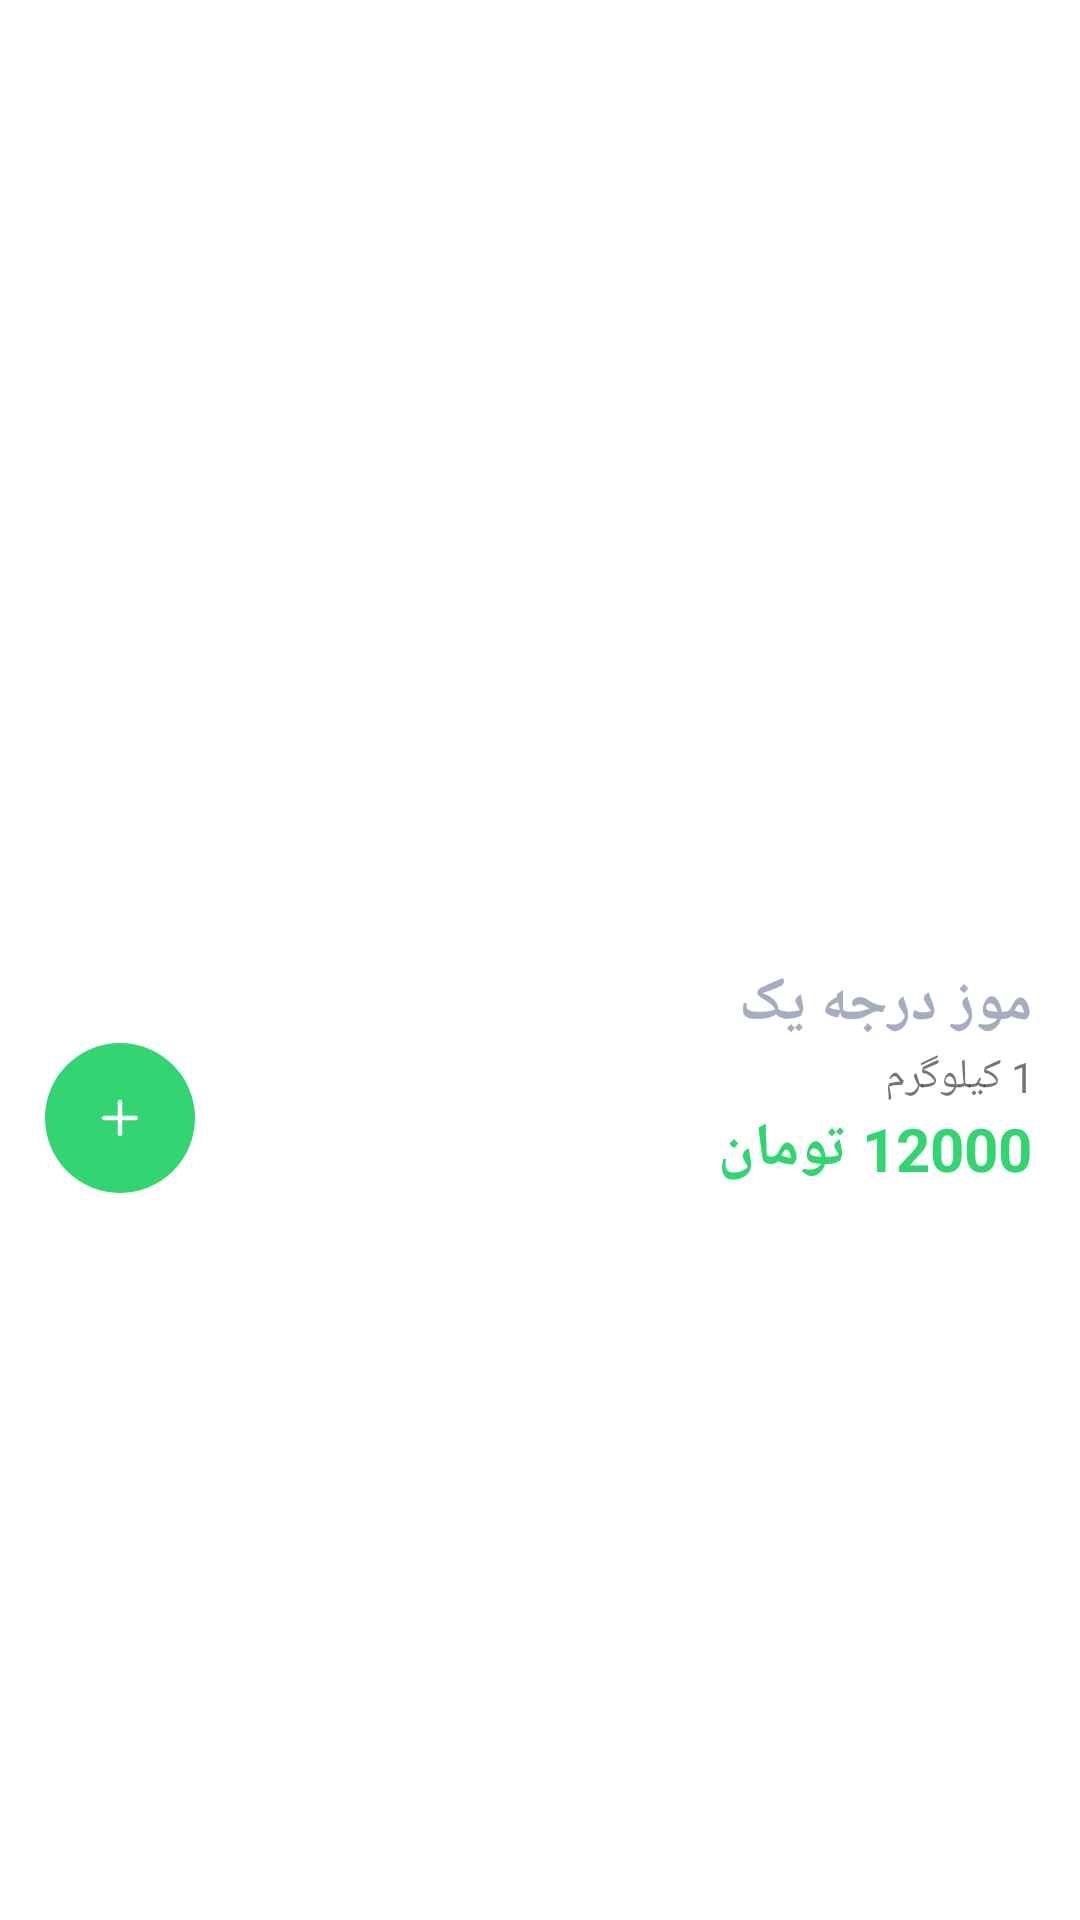

Named icons in this screenshot (1080x1920) and their centers, (x=x, y=y):
plus: (x=120, y=1118)
